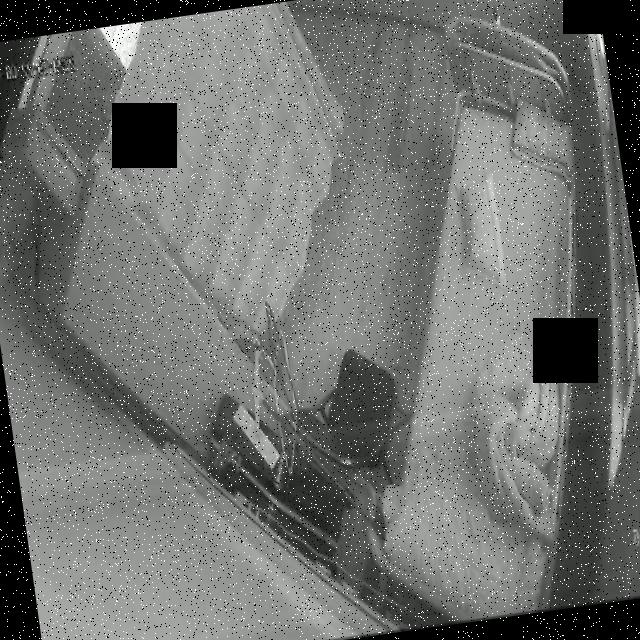bed: (314, 2, 639, 632)
